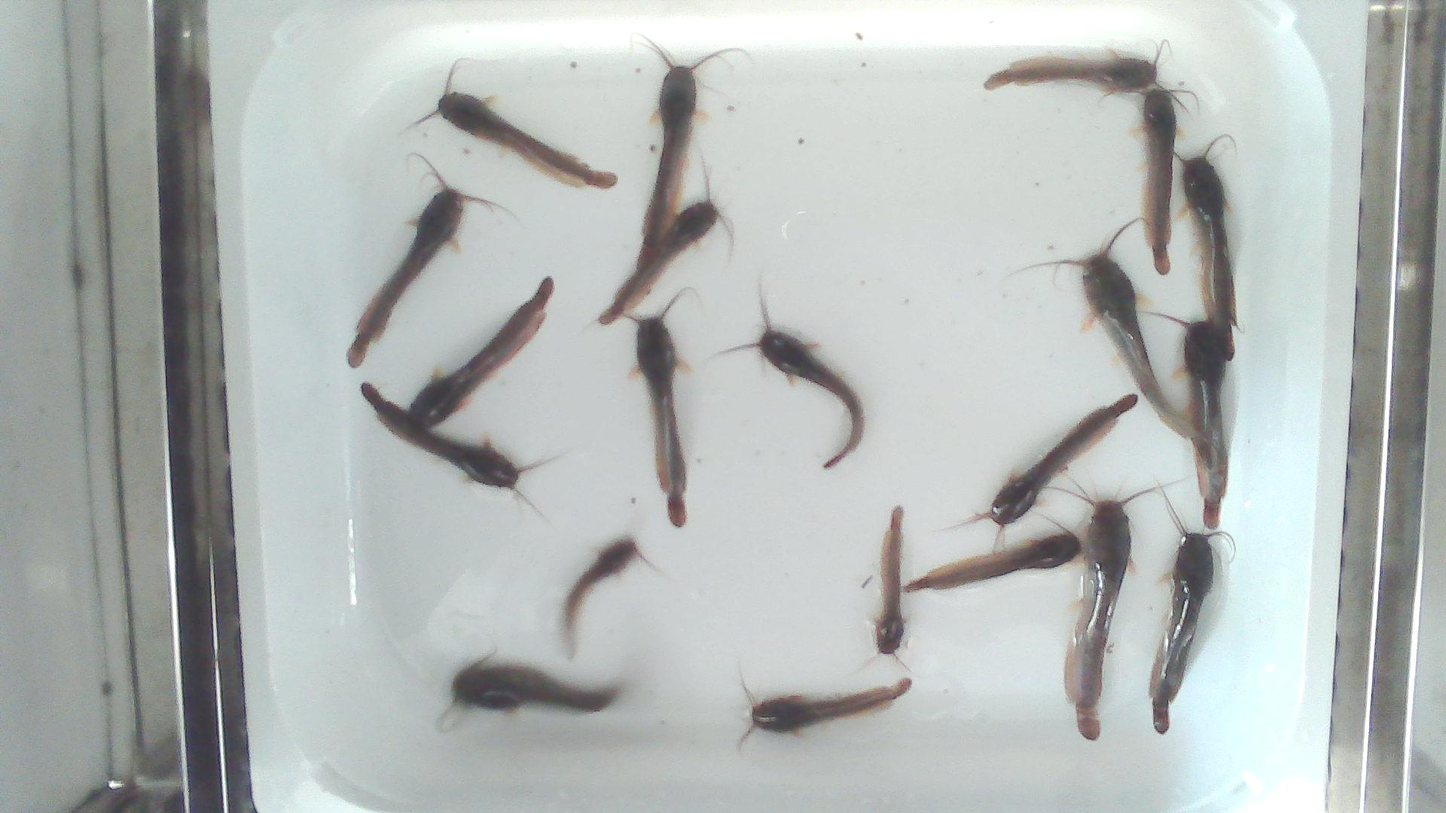lele: (361, 278, 552, 488), (598, 154, 735, 327), (348, 183, 463, 367), (1082, 248, 1192, 437), (1141, 311, 1230, 531), (988, 395, 1136, 525), (436, 92, 615, 187), (361, 384, 523, 487), (1065, 501, 1130, 739), (758, 327, 863, 467), (1173, 134, 1236, 361), (1150, 534, 1213, 732), (641, 66, 698, 268), (905, 532, 1079, 592), (637, 317, 686, 526), (563, 537, 641, 654), (452, 659, 620, 712), (752, 678, 911, 732), (984, 54, 1157, 92), (1142, 88, 1175, 274), (875, 507, 905, 653)
